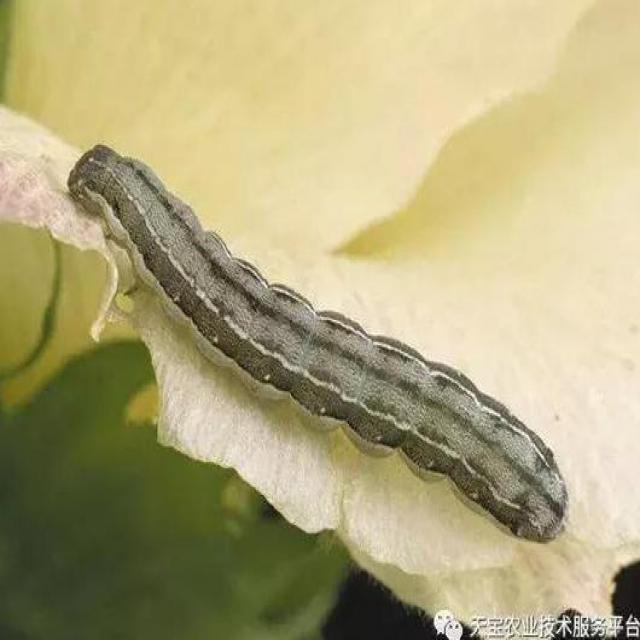armyworm: (56, 108, 587, 563)
